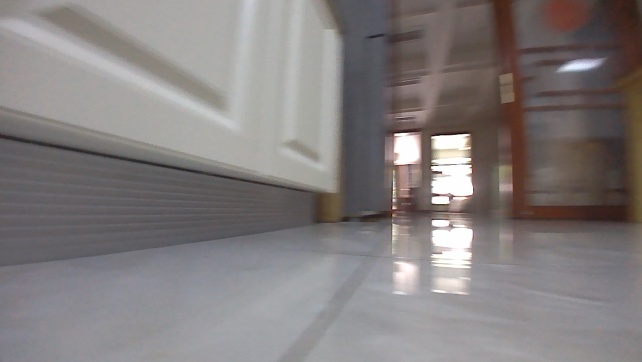cupboard1: (0, 0, 347, 268)
